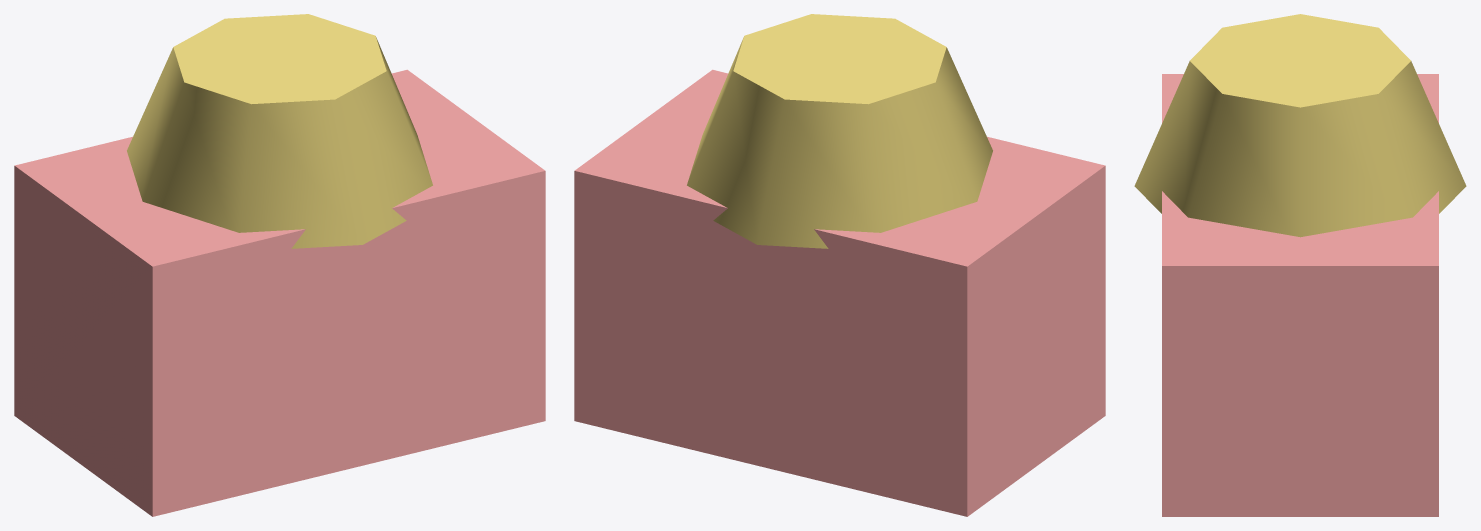
The model's file is hazard_pendulum.glb.
The picture shows the model from 3 angles, left to right: view 1: azimuth 30°, elevation 25°; view 2: azimuth 150°, elevation 25°; view 3: azimuth 270°, elevation 25°; orthographic projection.
Visible parts, largest first — view 1: PendulumBob, PendulumCap; view 2: PendulumBob, PendulumCap; view 3: PendulumBob, PendulumCap.
Boxes of the visible parts, left/top/right/bottom form: PendulumBob: left=14, top=69, right=545, bottom=516; PendulumCap: left=127, top=14, right=432, bottom=248; PendulumBob: left=574, top=69, right=1105, bottom=516; PendulumCap: left=687, top=14, right=992, bottom=248; PendulumBob: left=1162, top=74, right=1438, bottom=516; PendulumCap: left=1134, top=14, right=1466, bottom=237.
Size of the model in its own units: 1.15 by 1 by 0.84.
